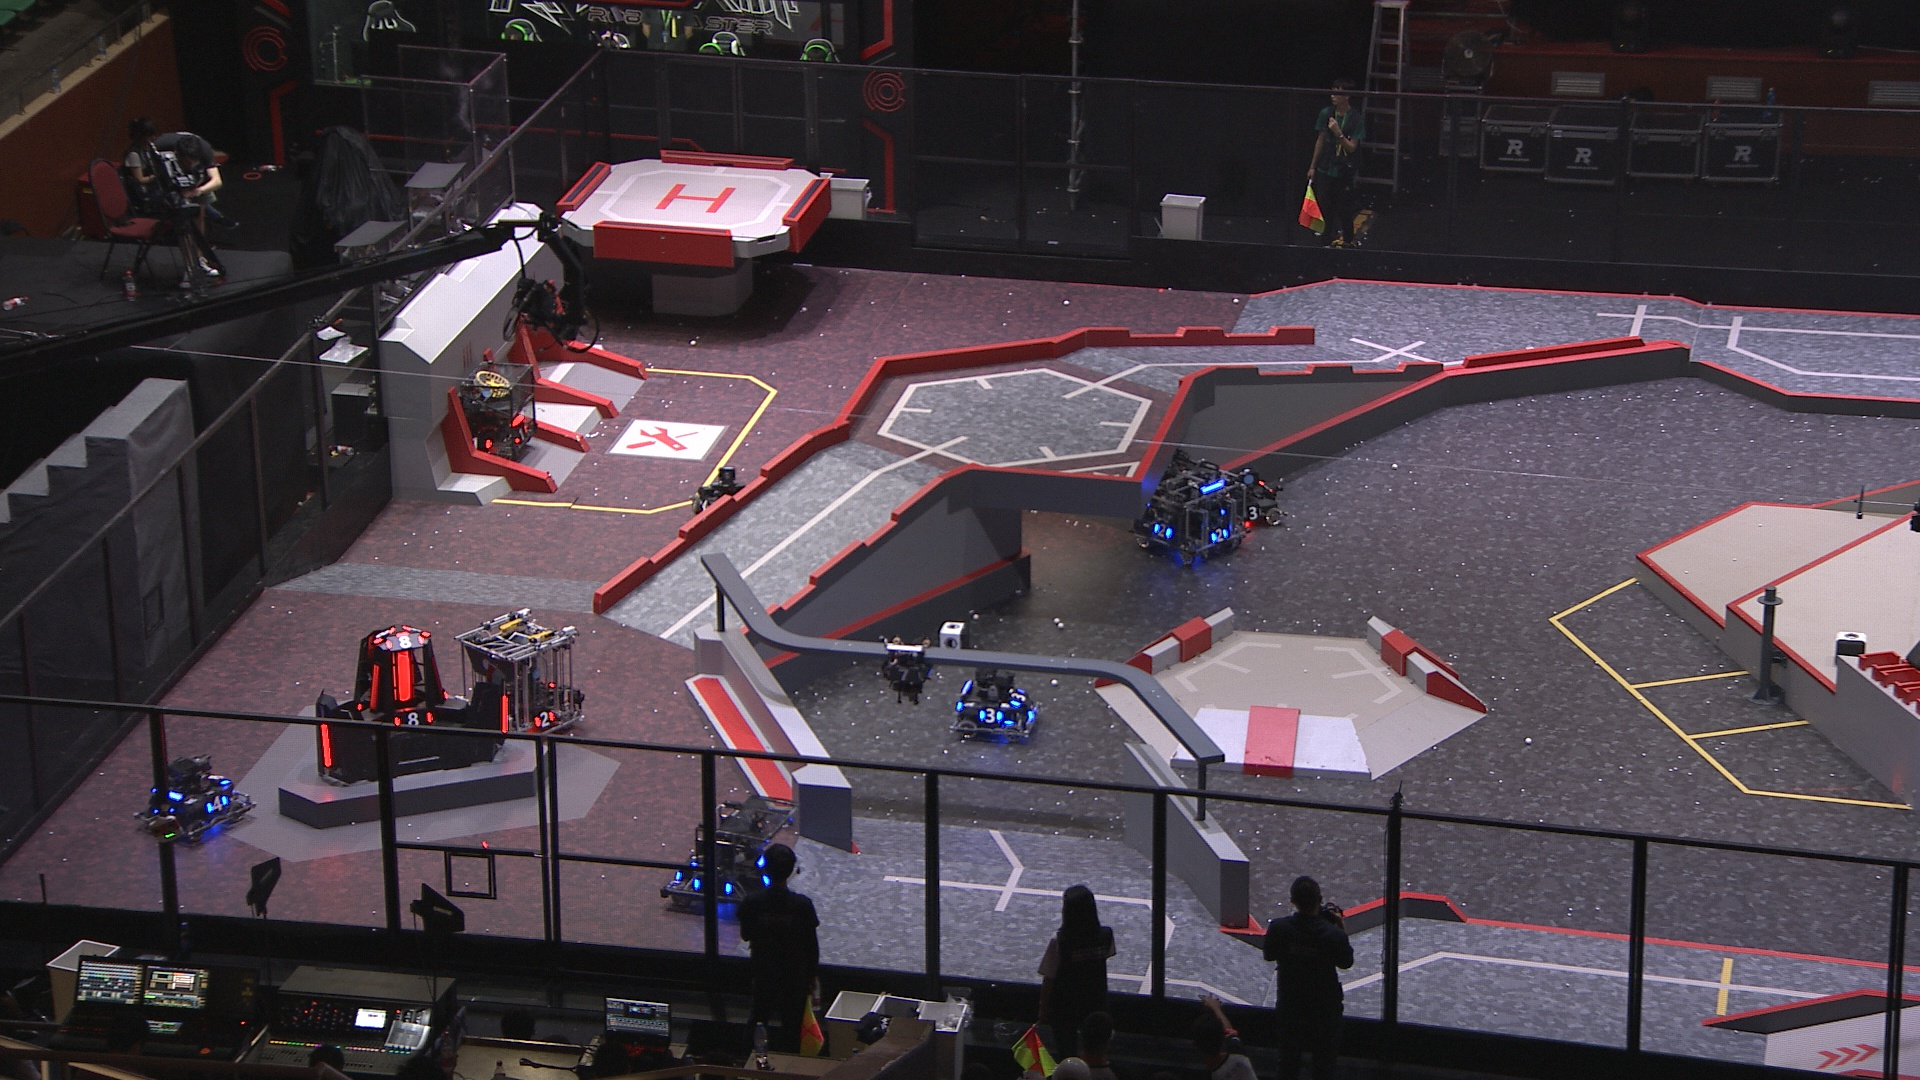armor: (392, 651, 410, 702), (390, 709, 434, 731), (384, 636, 429, 651), (320, 721, 335, 767), (977, 705, 1006, 727), (884, 669, 924, 683), (1240, 504, 1266, 524), (368, 662, 378, 711), (469, 434, 496, 452), (500, 695, 512, 736), (204, 796, 229, 815), (1007, 688, 1026, 709), (1153, 522, 1174, 541), (372, 628, 392, 646), (531, 712, 556, 727), (206, 773, 233, 785), (1209, 527, 1228, 543), (514, 427, 529, 447), (686, 853, 705, 866), (1025, 704, 1039, 719), (699, 496, 711, 513)
base: (310, 624, 516, 785)
car: (458, 605, 589, 741), (659, 793, 804, 915), (1129, 447, 1247, 566), (135, 752, 256, 847), (438, 361, 541, 469), (948, 659, 1044, 741), (1212, 465, 1287, 531), (688, 465, 756, 527)
watcher: (878, 637, 936, 705)
